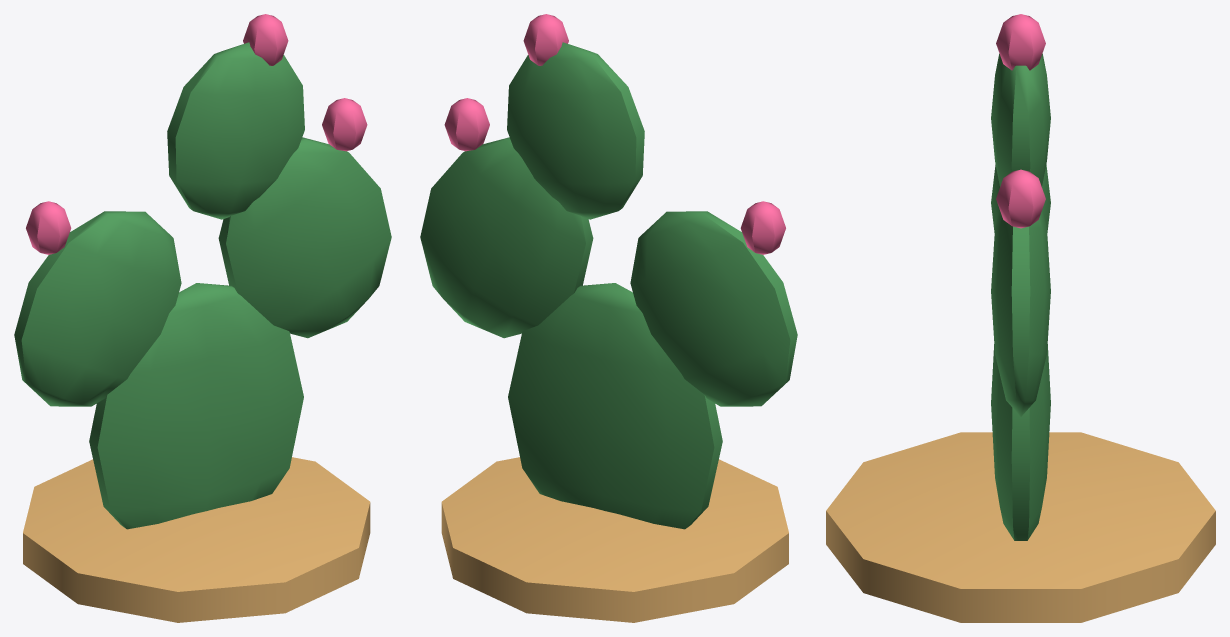
File: W5_Cactus_B.fbx
3 views of the same model, side by side, from view 1: azimuth 30°, elevation 25°; view 2: azimuth 150°, elevation 25°; view 3: azimuth 270°, elevation 25° (orthographic). The views are drawn at different scales.
Visible parts, largest first — view 1: W5_Cactus_B; view 2: W5_Cactus_B; view 3: W5_Cactus_B.
Part boxes in pixels (bbox=[...]): W5_Cactus_B: bbox=[14, 14, 391, 622]; W5_Cactus_B: bbox=[420, 14, 797, 622]; W5_Cactus_B: bbox=[826, 14, 1215, 622].
Bounding box in the file's own units: 1.88 × 2.58 × 1.56.
